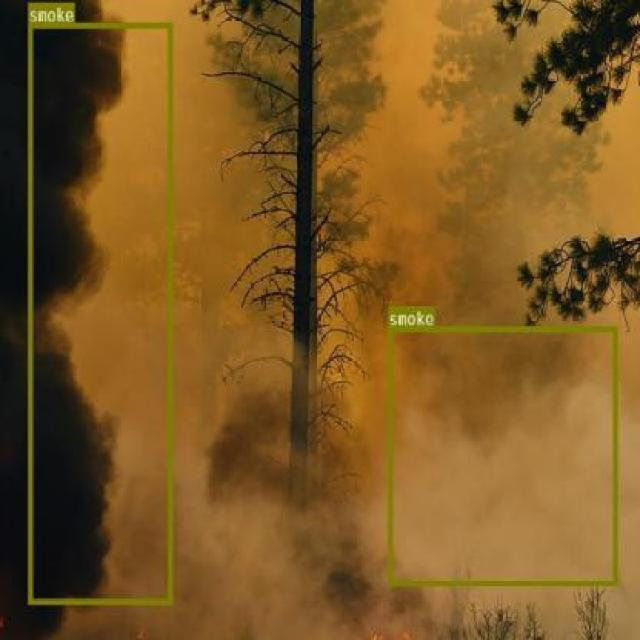Smoke: (28, 21, 172, 604), (387, 326, 616, 584), (166, 430, 401, 640)
